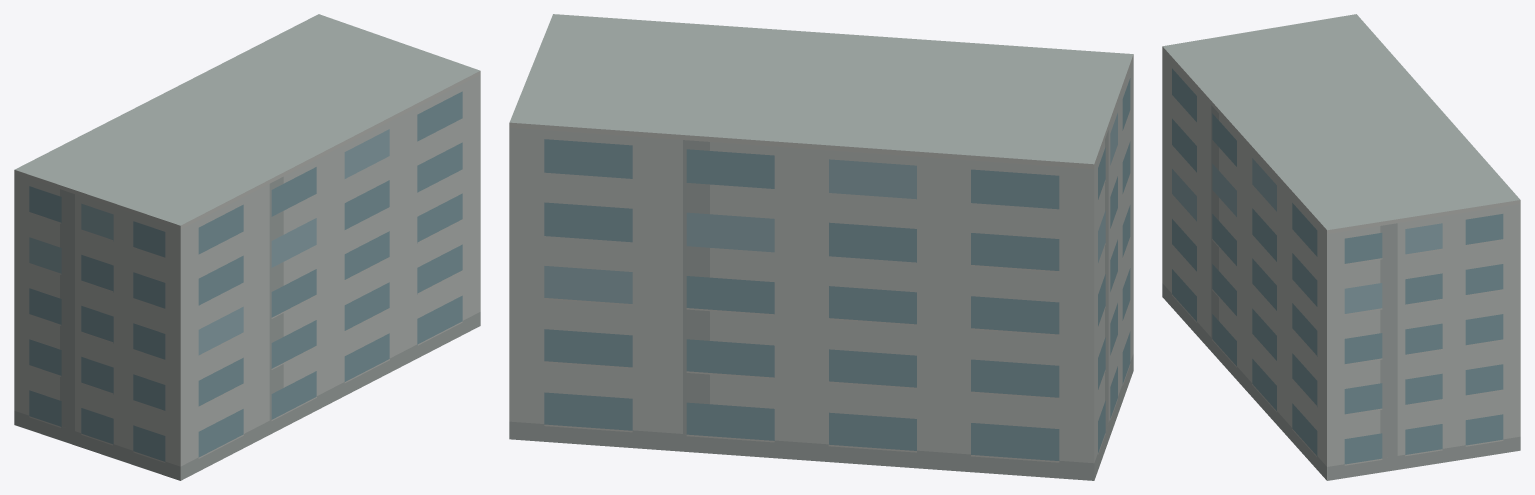
File: residential-965bb536-4c78-49b6-b377-9724e303b867.glb
3 views of the same model, side by side, from view 1: azimuth 30°, elevation 25°; view 2: azimuth 150°, elevation 25°; view 3: azimuth 270°, elevation 25° (orthographic). The views are drawn at different scales.
Parts seen in each view (by area): view 1: residential-965bb536-4c78-49b6-b377-9724e303b867.tmp; view 2: residential-965bb536-4c78-49b6-b377-9724e303b867.tmp; view 3: residential-965bb536-4c78-49b6-b377-9724e303b867.tmp.
Boxes of the visible parts, left/top/right/bottom form: residential-965bb536-4c78-49b6-b377-9724e303b867.tmp: left=14, top=14, right=480, bottom=480; residential-965bb536-4c78-49b6-b377-9724e303b867.tmp: left=509, top=14, right=1133, bottom=480; residential-965bb536-4c78-49b6-b377-9724e303b867.tmp: left=1162, top=14, right=1520, bottom=480.
Bounding box in the file's own units: 28.22 × 15.25 × 19.76.
